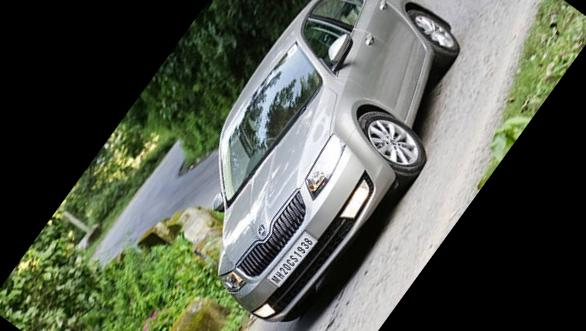plate: (250, 212, 332, 305)
